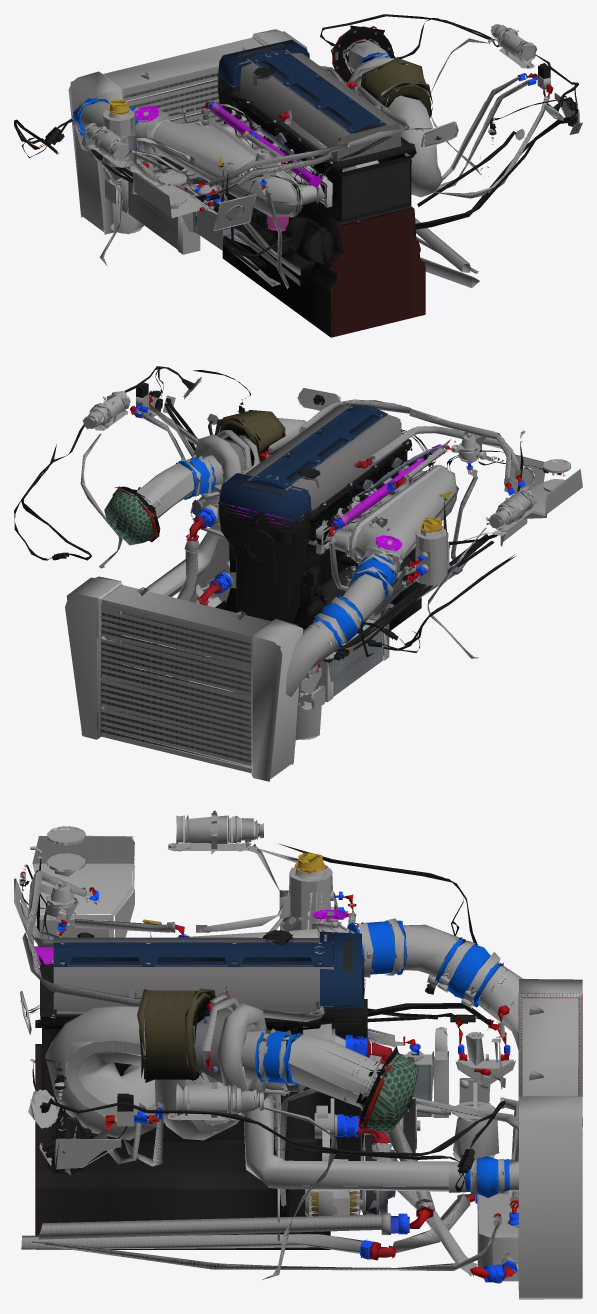
Rendered from eng-i6-30-legend.glb.
The picture shows the model from 3 angles, top to bottom: view 1: azimuth 30°, elevation 25°; view 2: azimuth 150°, elevation 25°; view 3: azimuth 270°, elevation 25°; orthographic projection. The views are drawn at different scales.
Visible parts, largest first — view 1: p0; view 2: p0; view 3: p0.
Part boxes in pixels (left/top/right/bottom): p0: left=14, top=14, right=582, bottom=337; p0: left=14, top=366, right=582, bottom=781; p0: left=14, top=810, right=582, bottom=1299.
Size of the model in its own units: 1.56 by 0.7178 by 1.22.
6 materials, 6 textured.
